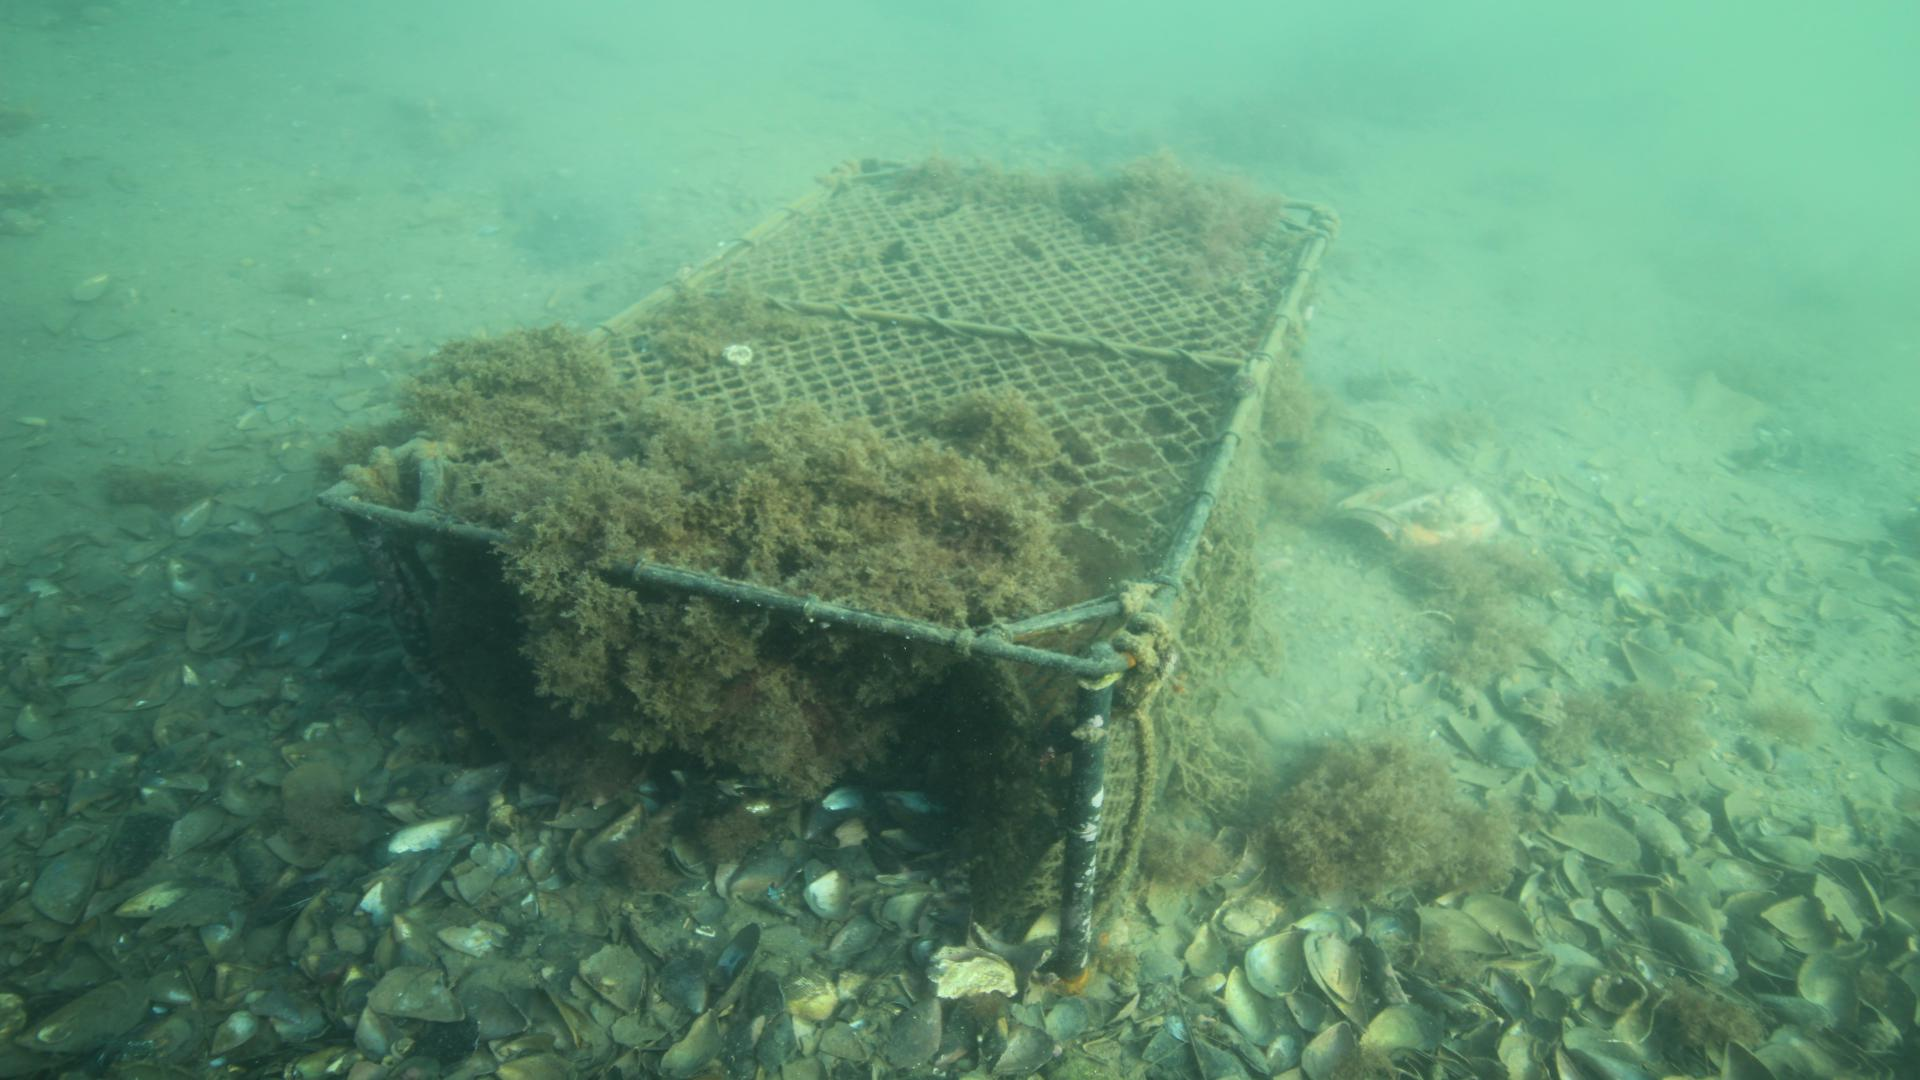rectangular fish trap: (314, 145, 1342, 1004)
